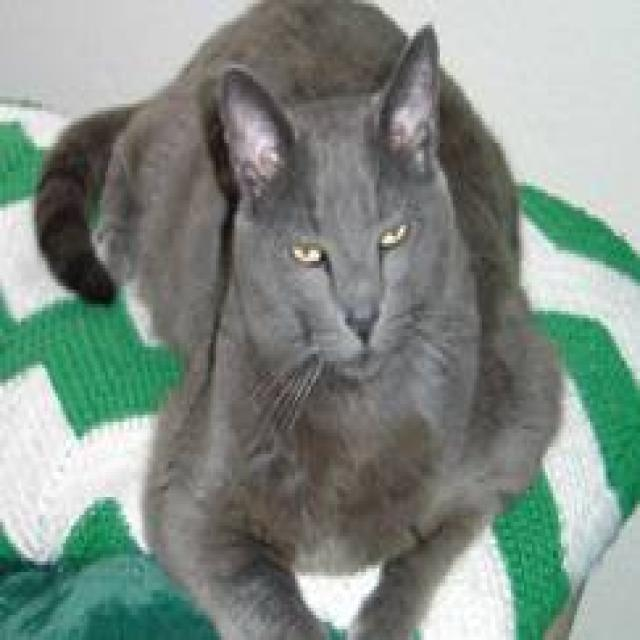cat: (31, 0, 563, 636)
